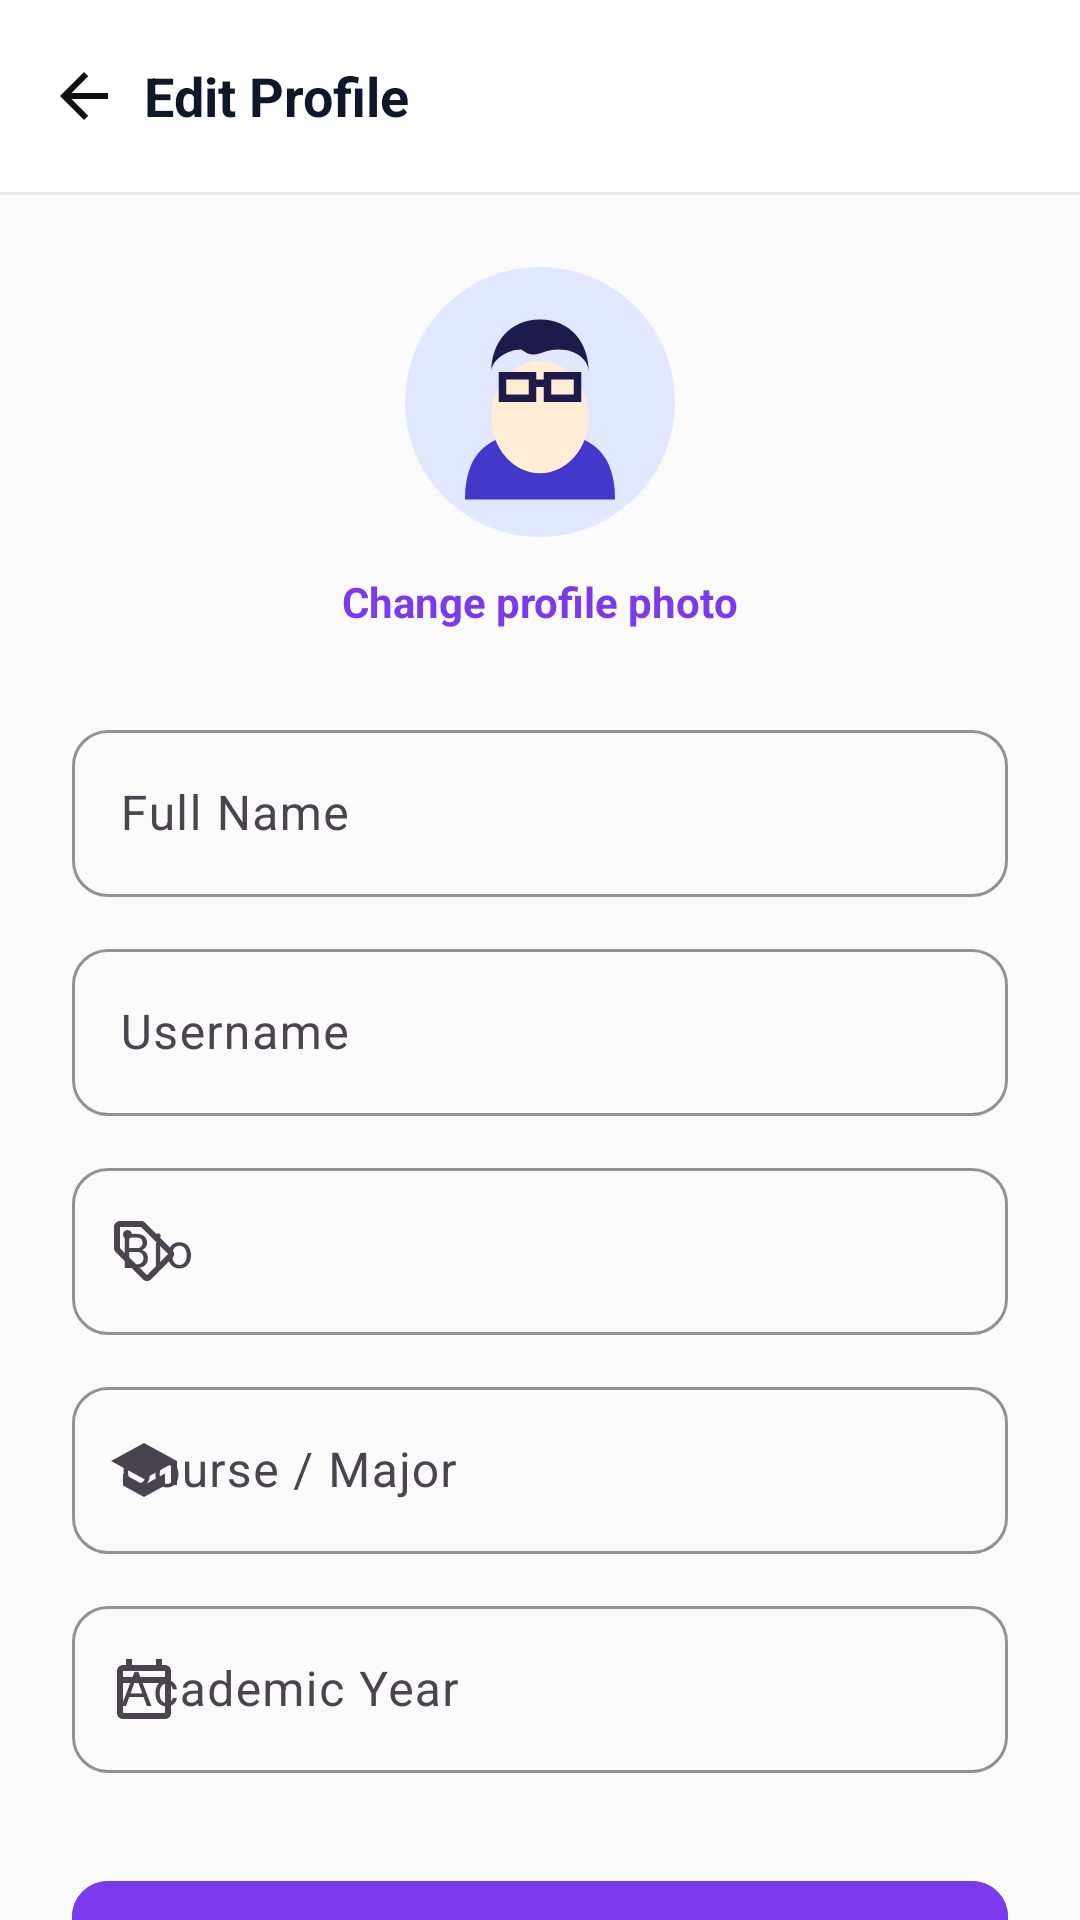

Named icons in this screenshot (1080×1920) and their bounding boxes, (x1, y1, x2, y2):
Go Back: (60, 72, 108, 120)
